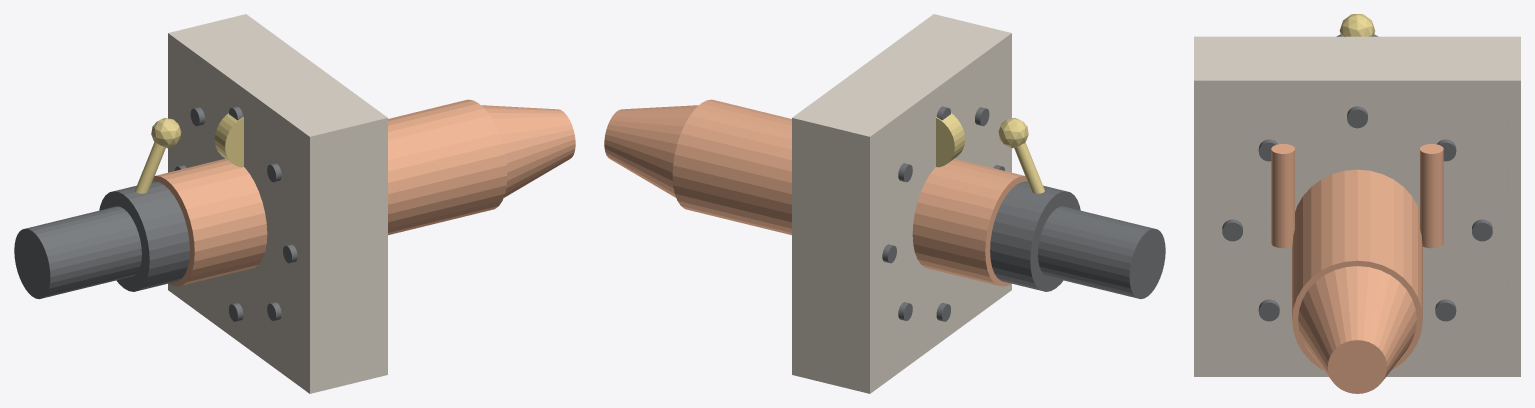
File: furnace_tuyere.glb
3 renders of one model, left to right at view 1: azimuth 30°, elevation 25°; view 2: azimuth 150°, elevation 25°; view 3: azimuth 270°, elevation 25°, orthographic. The views are drawn at different scales.
Visible parts, largest first — view 1: Cube, Cylinder.008, Cylinder.009, Cylinder.010, Cone, Cylinder.012, Icosphere, Cylinder.011; view 2: Cube, Cylinder.008, Cylinder.009, Cylinder.010, Cone, Cylinder.012, Icosphere, Cylinder.011; view 3: Cube, Cylinder.008, Cone, Cylinder.013, Cylinder.014, Icosphere, Cylinder.005, Cylinder.007, Cylinder, Cylinder.004, Cylinder.002.
Part boxes in pixels (x1,y1,x2,y2): Cube: (168,14,387,393); Cylinder.008: (152,99,507,286); Cylinder.009: (14,206,141,299); Cylinder.010: (99,181,189,291); Cone: (481,105,575,197); Cylinder.012: (214,113,243,167); Icosphere: (151,118,181,148); Cylinder.011: (135,142,165,193); Cube: (792,14,1011,393); Cylinder.008: (672,99,1027,286); Cylinder.009: (1038,206,1165,299); Cylinder.010: (990,181,1080,291); Cone: (604,105,698,197); Cylinder.012: (936,113,965,167); Icosphere: (998,118,1028,148); Cylinder.011: (1014,142,1044,193); Cube: (1194,36,1520,376); Cylinder.008: (1292,169,1422,370); Cone: (1298,266,1416,393); Cylinder.013: (1271,144,1294,248); Cylinder.014: (1420,144,1443,248); Icosphere: (1339,14,1375,36); Cylinder.005: (1258,299,1279,321); Cylinder.007: (1435,299,1456,321); Cylinder: (1472,219,1492,241); Cylinder.004: (1222,219,1242,241); Cylinder.002: (1347,106,1367,128).
Bounding box in the file's own units: 2.37 × 1.1 × 1.1.
